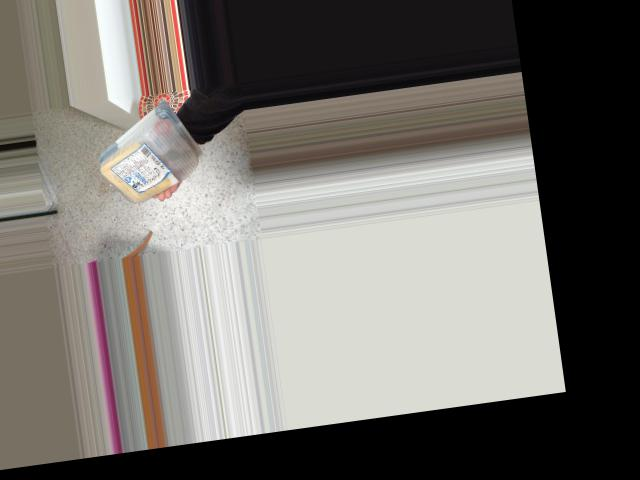cheese: (86, 104, 206, 209)
